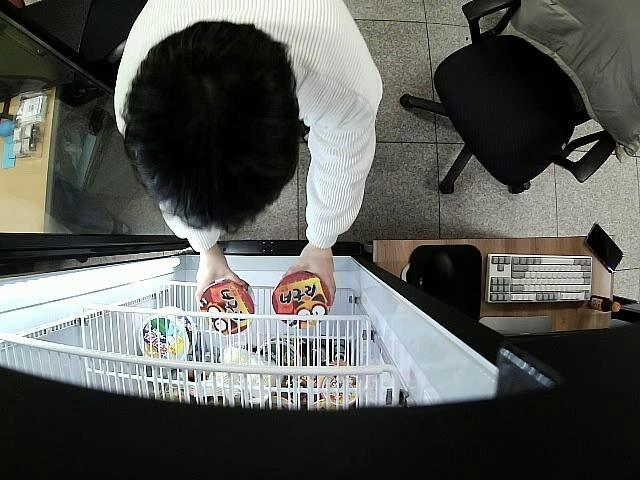05_nuguri_L: (198, 276, 256, 335), (272, 272, 331, 326)
